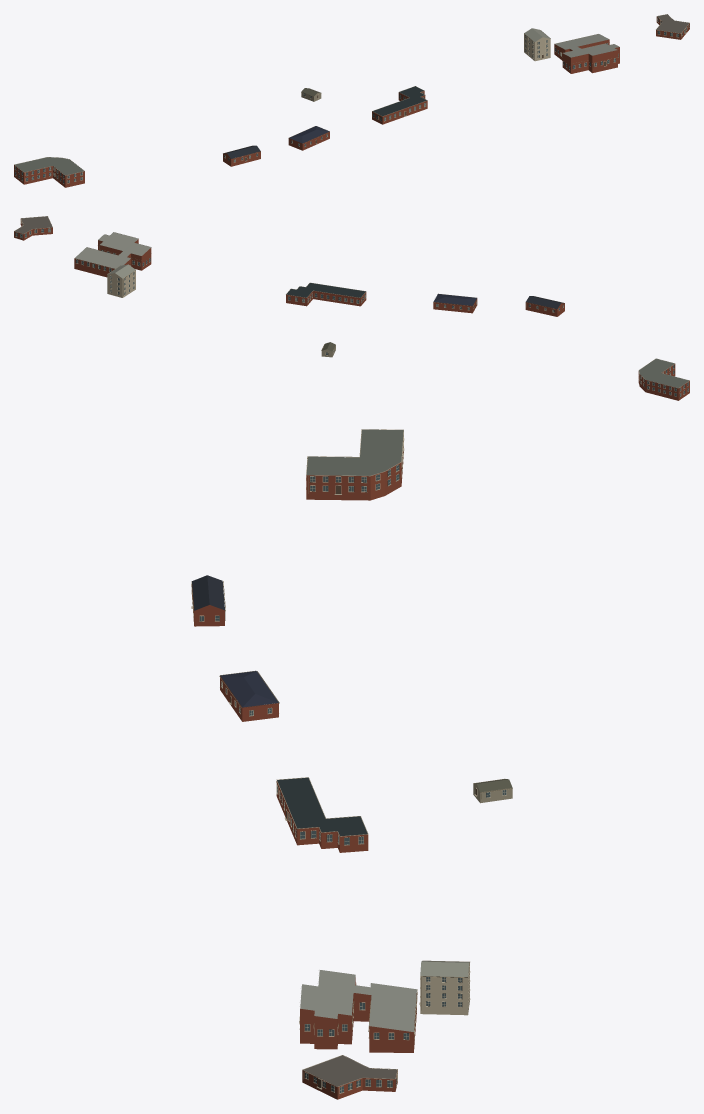
3 renders of one model, top to bottom at view 1: azimuth 30°, elevation 25°; view 2: azimuth 150°, elevation 25°; view 3: azimuth 270°, elevation 25°, orthographic. The views are drawn at different scales.
Parts seen in each view (by area): view 1: -4_-2_623907357_0, -4_-2_623907358_1; view 2: -4_-2_623907357_0, -4_-2_623907358_1; view 3: -4_-2_623907357_0, -4_-2_623907358_1.
Part boxes in pixels (box(x1,y1,x2,y2)): -4_-2_623907357_0: box(14, 14, 689, 184); -4_-2_623907358_1: box(14, 17, 689, 187); -4_-2_623907357_0: box(14, 216, 689, 397); -4_-2_623907358_1: box(14, 219, 689, 400); -4_-2_623907357_0: box(191, 429, 512, 1095); -4_-2_623907358_1: box(192, 441, 416, 1099).
Size of the model in its own units: 459 by 23.58 by 96.87.
